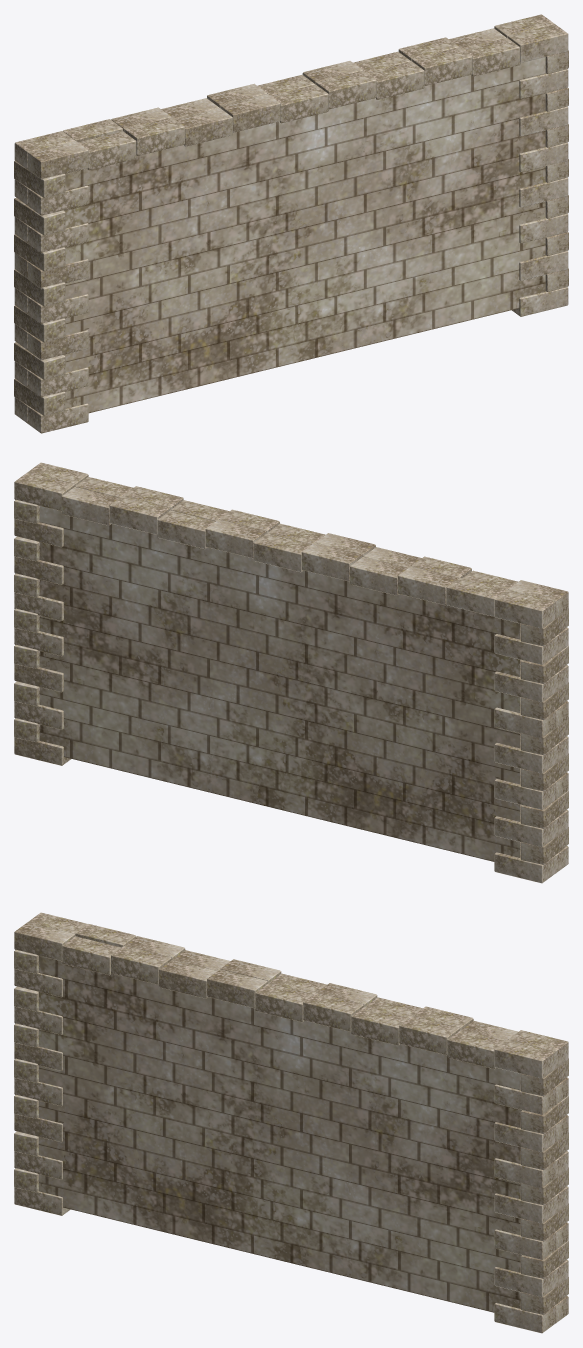
File: castlewall.fbx
3 views of the same model, one above another, from view 1: azimuth 30°, elevation 25°; view 2: azimuth 150°, elevation 25°; view 3: azimuth 330°, elevation 25° (orthographic).
Parts seen in each view (by area): view 1: pCube95; view 2: pCube95; view 3: pCube95.
Part boxes in pixels (x1,y1,x2,y2): pCube95: [14, 14, 568, 433]; pCube95: [14, 462, 568, 883]; pCube95: [14, 912, 568, 1333].
Size of the model in its own units: 70.08 by 34.49 by 6.78.
Materials: 1 (1 with a texture image).
